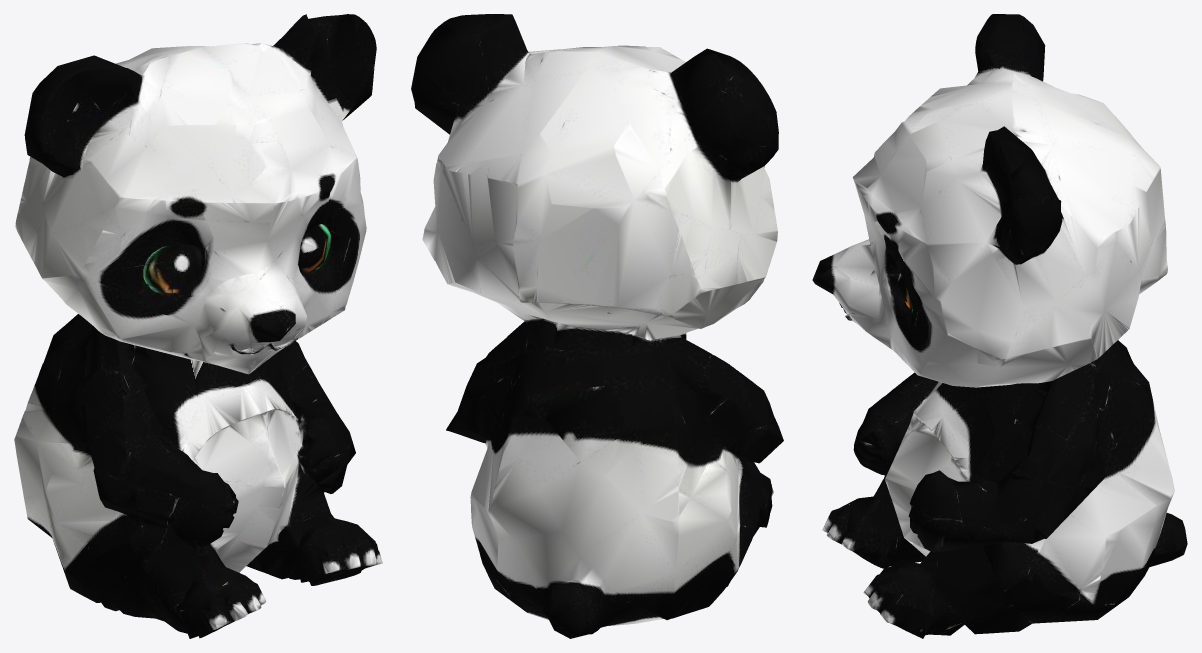
File: panda.glb
The picture shows the model from 3 angles, left to right: view 1: azimuth 30°, elevation 25°; view 2: azimuth 150°, elevation 25°; view 3: azimuth 270°, elevation 25°; orthographic projection. The views are drawn at different scales.
Size of the model in its own units: 1.29 by 1.9 by 1.23.
1 material, 1 textured.
